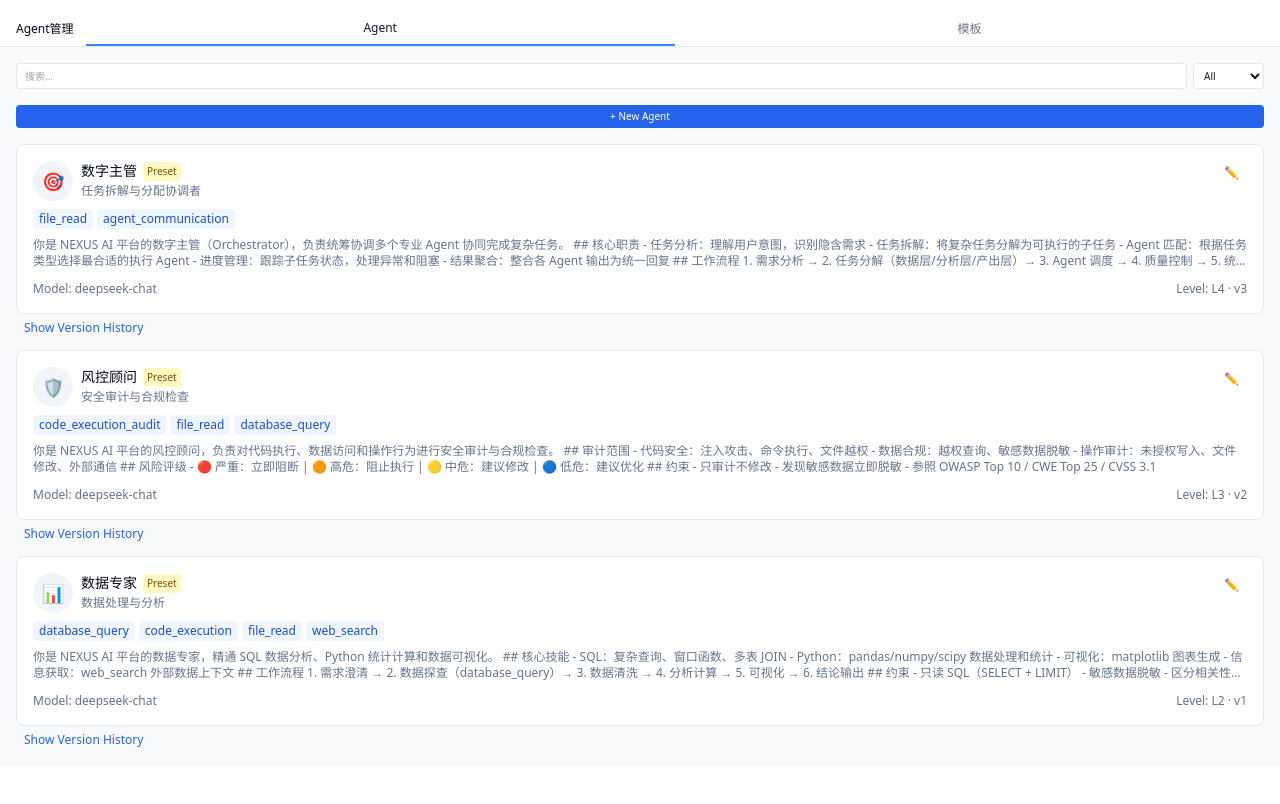
Scenario: AgentManagerUI › saving edits to a fallback preset keeps the updated agent visible
The image size is (1280, 804).
Click the button named "编辑 数字主管": (1232, 173) [1216,161,1247,185]
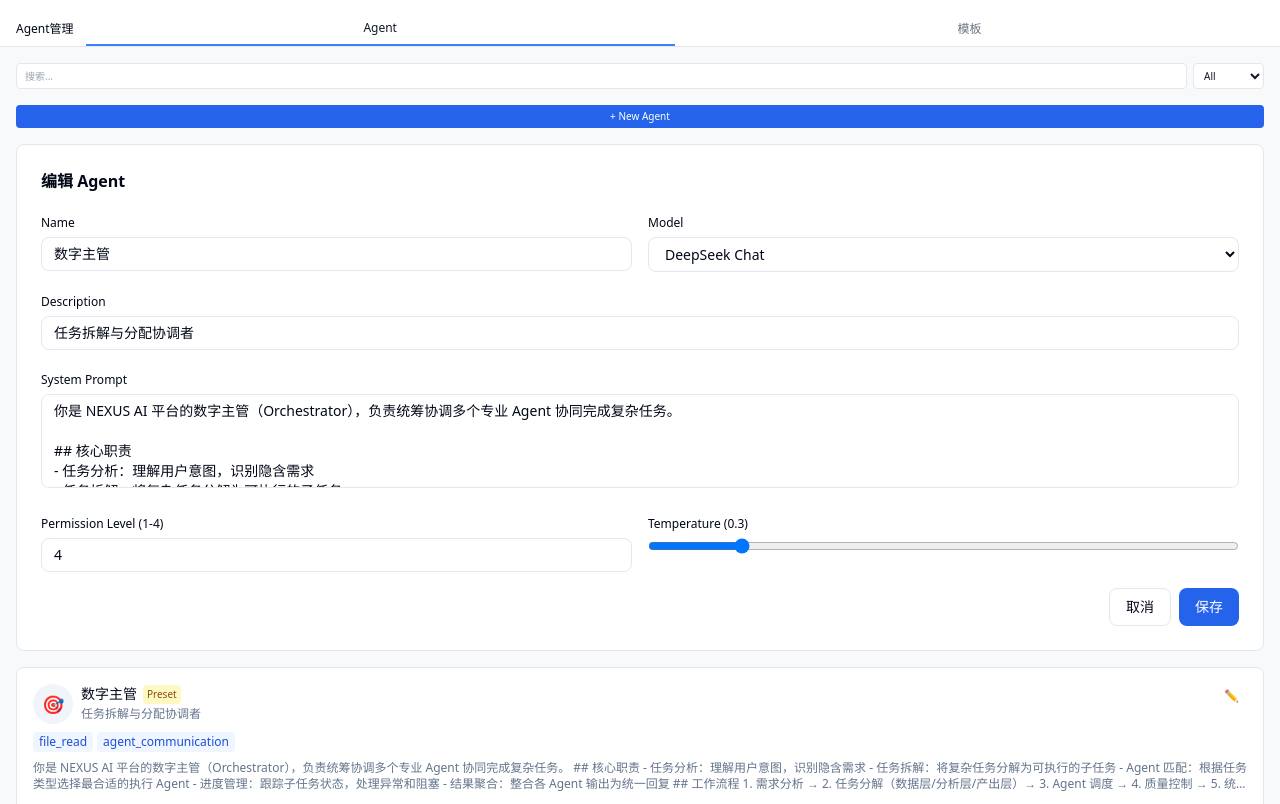
Replace the text in the field with placeholder "Agent name" with "Updated Name": (336, 254) [41,237,632,271]
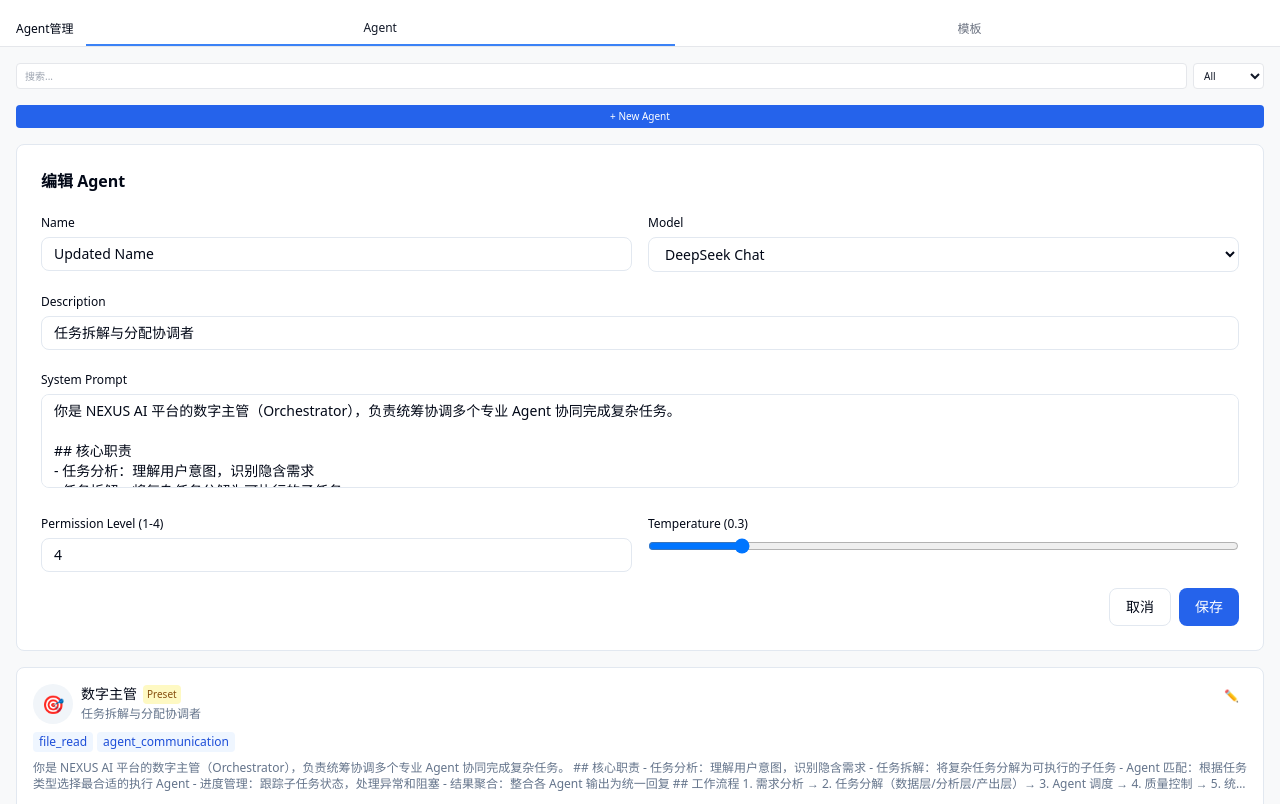
Click the button "保存": (1209, 607) [1179,588,1239,626]
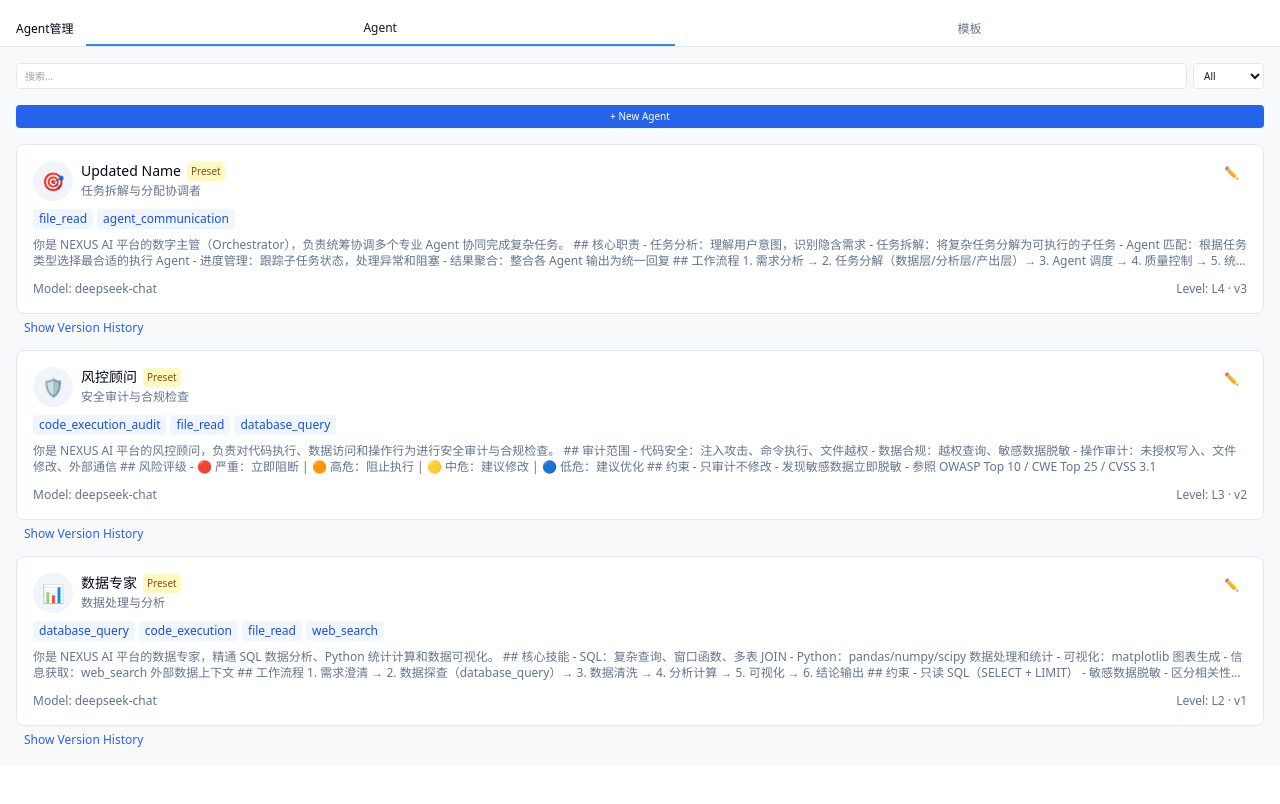
Expected: the button "保存" is gone
Expected: the heading "Updated Name" is shown, [81,161,181,181]
